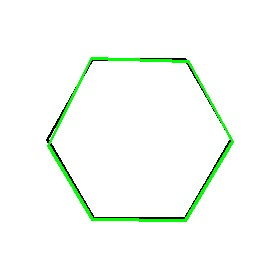line_segment: (46, 57, 233, 221)
